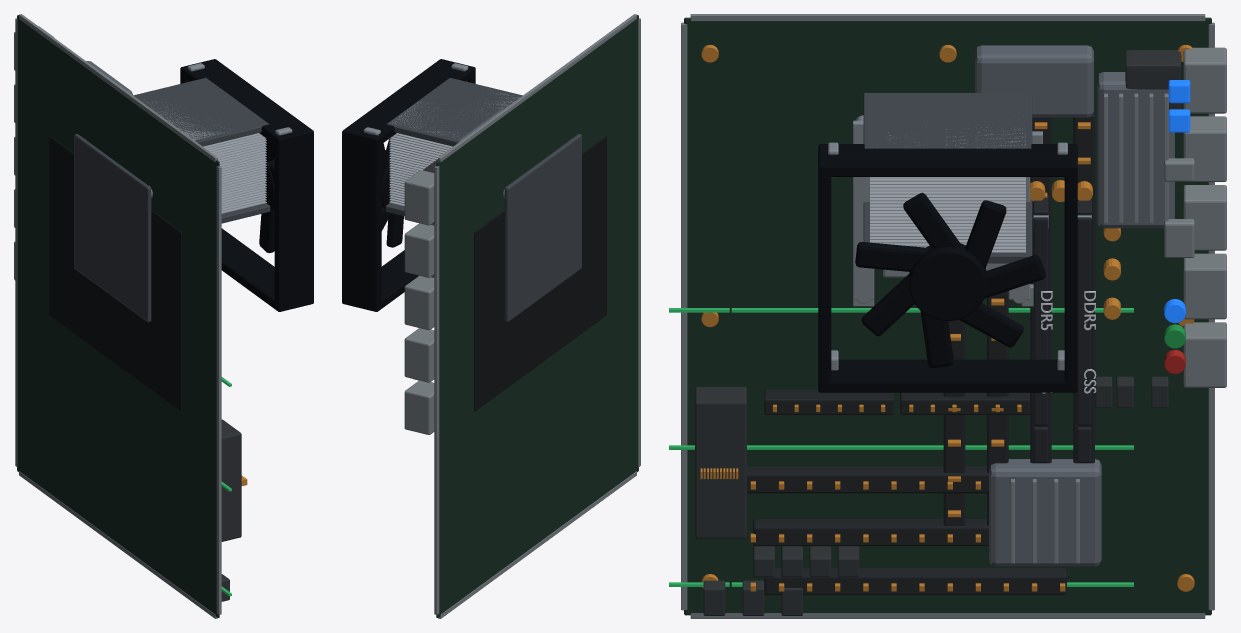
The model's file is ram.glb.
3 views of the same model, side by side, from view 1: azimuth 30°, elevation 25°; view 2: azimuth 150°, elevation 25°; view 3: azimuth 270°, elevation 25° (orthographic). The views are drawn at different scales.
Visible parts, largest first — view 1: MB_PCB, CPU_Render_Ground, COOLER_Backplate, COOLER_FanFrame_Left, COOLER_Heatsink_TopRail, COOLER_Heatsink, COOLER_FanFrame_Top, MB_PCB_Edge_Front, COOLER_FanFrame_Bottom, MB_24Pin_ATX, MB_PCB_Edge_Top, MB_PCB_Edge_Rear (+3 smaller); view 2: MB_PCB, CPU_Render_Ground, COOLER_Backplate, COOLER_FanFrame_Right, COOLER_Heatsink_TopRail, COOLER_FanFrame_Top, MB_PCB_Edge_Rear, COOLER_Heatsink, MB_RearIO_Block_01, MB_RearIO_Block_02, MB_RearIO_Block_04, MB_RearIO_Block_05 (+6 smaller); view 3: MB_PCB, MB_ChipsetHeatsink, COOLER_Heatsink_TopRail, COOLER_Heatsink, MB_VRMHeatsink_Left, COOLER_FanFrame_Bottom, MB_24Pin_ATX, COOLER_FanFrame_Top, MB_VRMHeatsink_Top, MB_PCIeSlot_03, MB_PCIeSlot_01, MB_PCIeSlot_02 (+34 smaller).
Part boxes in pixels (box(x1,y1,x2,y2)): MB_PCB: box(17, 15, 219, 617); CPU_Render_Ground: box(49, 136, 181, 411); COOLER_Backplate: box(74, 134, 151, 322); COOLER_FanFrame_Left: box(274, 138, 313, 305); COOLER_Heatsink_TopRail: box(133, 78, 269, 146); COOLER_Heatsink: box(147, 102, 266, 213); COOLER_FanFrame_Top: box(180, 59, 313, 146); MB_PCB_Edge_Front: box(216, 166, 221, 614); COOLER_FanFrame_Bottom: box(221, 228, 313, 311); MB_24Pin_ATX: box(221, 419, 241, 541); MB_PCB_Edge_Top: box(19, 14, 217, 162); MB_PCB_Edge_Rear: box(15, 18, 17, 467); MB_PCB: box(436, 15, 638, 617); CPU_Render_Ground: box(474, 136, 606, 411); COOLER_Backplate: box(504, 134, 581, 322); COOLER_FanFrame_Right: box(342, 138, 381, 305); COOLER_Heatsink_TopRail: box(387, 78, 522, 146); COOLER_FanFrame_Top: box(342, 59, 475, 146); MB_PCB_Edge_Rear: box(434, 166, 439, 614); COOLER_Heatsink: box(389, 93, 519, 206); MB_RearIO_Block_01: box(404, 170, 434, 225); MB_RearIO_Block_02: box(404, 223, 434, 277); MB_RearIO_Block_04: box(404, 328, 434, 382); MB_RearIO_Block_05: box(404, 380, 434, 434); MB_PCB: box(684, 17, 1211, 615); MB_ChipsetHeatsink: box(989, 459, 1101, 566); COOLER_Heatsink_TopRail: box(863, 93, 1032, 148); COOLER_Heatsink: box(870, 127, 1025, 252); MB_VRMHeatsink_Left: box(1097, 72, 1174, 228); COOLER_FanFrame_Bottom: box(818, 359, 1077, 392); MB_24Pin_ATX: box(695, 387, 746, 538); COOLER_FanFrame_Top: box(818, 144, 1077, 176); MB_VRMHeatsink_Top: box(975, 45, 1093, 117); MB_PCIeSlot_03: box(764, 568, 1066, 594); MB_PCIeSlot_01: box(747, 466, 988, 493); MB_PCIeSlot_02: box(753, 519, 988, 545).
Size of the model in its own units: 0.1155 by 0.308 by 0.258.
